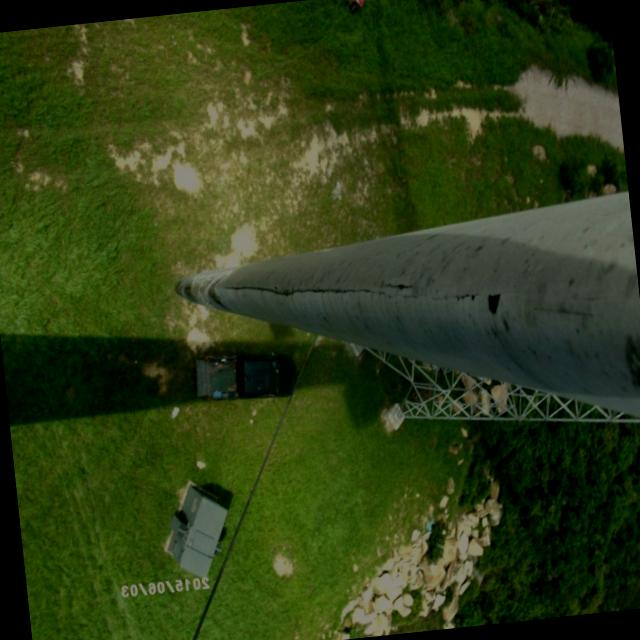crack: (221, 268, 414, 318)
surface_peeling: (480, 288, 506, 316)
